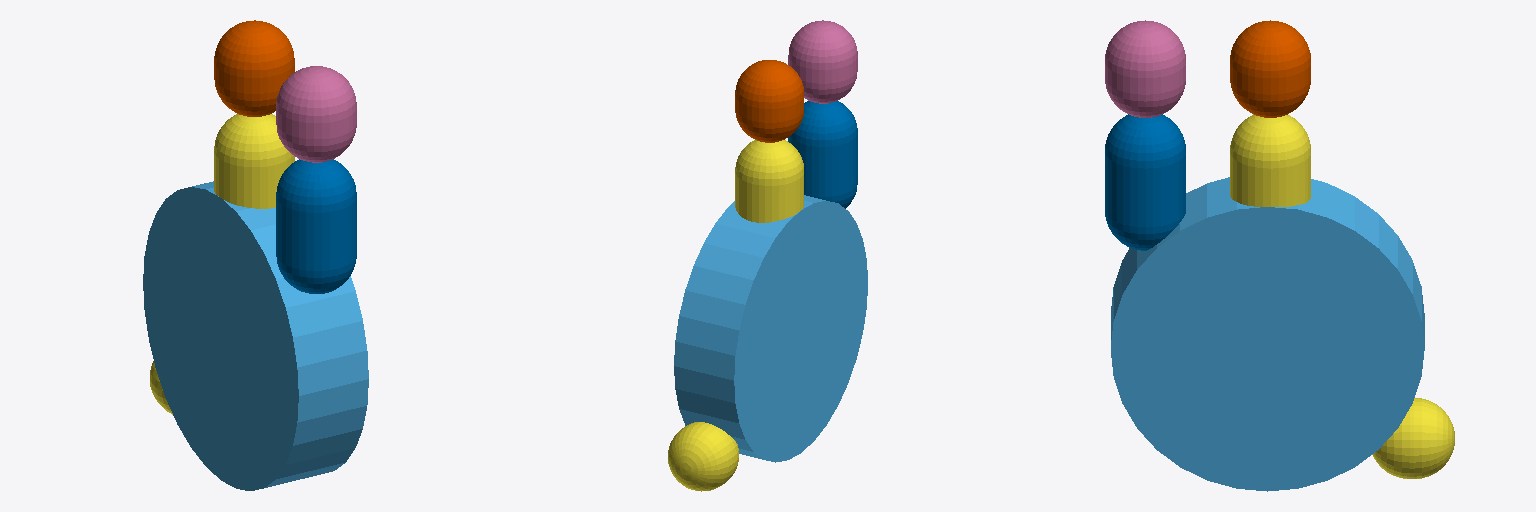
URDF robot description (DexterousHand):
<?xml version="1.0"?>
<robot name="DexterousHand">


    <link name="world"/>
    <joint name="world_to_palm" type="fixed">
        <parent link="world"/>
        <child link="palm"/>
        <origin xyz="0 0 0" rpy="0 0 0"/>
    </joint>
    <link name="palm">
        <inertial>
            <origin xyz="0 0 0.057" rpy="0 0 0"/>
            <mass value="0.30212892864"/>
            <inertia ixx="0.00049080844457568" ixy="0.0" ixz="0.0" iyy="0.00026746366246427523" iyz="0.0" izz="0.00026746366246427523"/>
        </inertial>
        <visual>
            <origin xyz="0 0 0.057" rpy="1.5708 0 1.5708"/>
            <geometry>
                <cylinder radius="0.057" length="0.0296"/>
            </geometry>
            <material name="default"/>
        </visual>
        <collision>
            <origin xyz="0 0 0.057" rpy="1.5708 0 1.5708"/>
            <geometry>
                <cylinder radius="0.057" length="0.0296"/>
            </geometry>
        </collision>
    </link>

    
    <joint name="thumb_joint1" type="revolute">
        <parent link="palm"/>
        <child link="thumb_base"/>
        <origin xyz="0.0029 0.0368 0.0157" rpy="-1.5708 -1.5708 0.0"/>
        <axis xyz="-1 0 0"/>
        <limit lower="-0.349" upper="2.094" effort="1.0" velocity="1.0"/>
    </joint>

    <link name="thumb_base"></link>

    <joint name="thumb_joint2" type="revolute">
        <parent link="thumb_base"/>
        <child link="thumb_proximal"/>
        <origin xyz="0.0 0.0 0.0" rpy="0.0 0.0 0.0"/>
        <axis xyz="0 0 1"/>
        <limit lower="-0.47" upper="2.443" effort="1.0" velocity="1.0"/>
    </joint>

    <link name="thumb_proximal">
        <inertial>
            <origin xyz="0 0 0.01565" rpy="0 0 0"/>
            <mass value="0.021538658803200002"/>
            <inertia ixx="2.9378910096388167e-06" ixy="0.0" ixz="0.0" 
            iyy="2.9378910096388167e-06" iyz="0.0" izz="2.358913912126464e-06"/>
        </inertial>
        <visual>
            <origin xyz="0 0 0.01565" rpy="0 0 0"/>
            <geometry>
                <cylinder radius="0.0148" length="0.0017000000000000001"/>
            </geometry>
            <material name="default"/>
        </visual>
        <visual>
            <origin xyz="0 0 0.0148" rpy="0 0 0"/>
            <geometry>
                <sphere radius="0.0148"/>
            </geometry>
            <material name="default"/>
        </visual>
        <visual>
            <origin xyz="0 0 0.0165" rpy="0 0 0"/>
            <geometry>
                <sphere radius="0.0148"/>
            </geometry>
            <material name="default"/>
        </visual>
        <collision>
            <origin xyz="0 0 0.01565" rpy="0 0 0"/>
            <geometry>
                <cylinder radius="0.0148" length="0.0017000000000000001"/>
            </geometry>
        </collision>
        <collision>
            <origin xyz="0 0 0.0148" rpy="0 0 0"/>
            <geometry>
                <sphere radius="0.0148"/>
            </geometry>
        </collision>
        <collision>
            <origin xyz="0 0 0.0165" rpy="0 0 0"/>
            <geometry>
                <sphere radius="0.0148"/>
            </geometry>
        </collision>
    </link>

    <joint name="thumb_joint3" type="revolute">
        <parent link="thumb_proximal"/>
        <child link="thumb_knuckle"/>
        <origin xyz="0.0 0.0 0.0" rpy="0.0 0.0 0.0"/>
        <axis xyz="1 0 0"/>
        <limit lower="0.0" upper="0.0" effort="1.0" velocity="1.0"/>
    </joint>

    <link name="thumb_knuckle"></link>

    <joint name="thumb_joint4" type="revolute">
        <parent link="thumb_knuckle"/>
        <child link="thumb_middle"/>
        <origin xyz="0 0 0" rpy="0 0 0"/> 
        <axis xyz="0 1 0"/>
        <limit lower="0.0" upper="0.0" effort="1.0" velocity="1.0"/>
    </joint>

    <link name="thumb_middle">
    </link>

    <joint name="thumb_joint5" type="revolute">
        <parent link="thumb_middle"/>
        <child link="thumb_distal"/>
        <origin xyz="0 0 0" rpy="0 0 0"/> 
        <axis xyz="0 1 0"/>
        <limit lower="0.0" upper="0.0" effort="1.0" velocity="1.0"/>
    </joint>

    <link name="thumb_distal">
    </link>

    
    <joint name="index_joint1" type="revolute">
        <parent link="palm"/>
        <child link="index_proximal"/>
        <origin xyz="0.0 0.0 0.0" rpy="0.0 0.0 0.0"/>
        <axis xyz="1 0 0"/>
        <limit lower="0.0" upper="0.0" effort="1.0" velocity="1.0"/>
    </joint>

    <link name="index_proximal">
    </link>

    <joint name="index_joint2" type="revolute">
        <parent link="index_proximal"/>
        <child link="index_dummy"/>
        <origin xyz="0.0 0.0 0.0" rpy="0.0 0.0 0.0"/>
        <axis xyz="0 1 0"/>
        <limit lower="0.0" upper="0.0" effort="1.0" velocity="1.0"/>
    </joint>

    <link name="index_dummy"></link>

    <joint name="index_joint3" type="revolute">
        <parent link="index_dummy"/>
        <child link="index_middle"/>
        <origin xyz="0 0 0" rpy="0 0 0"/>
        <axis xyz="0 1 0"/>
        <limit lower="0.0" upper="0.0" effort="1.0" velocity="1.0"/>
    </joint>

    <link name="index_middle">
    </link>

    <joint name="index_joint4" type="revolute">
        <parent link="index_middle"/>
        <child link="index_distal"/>
        <origin xyz="0 0 0" rpy="0 0 0"/> 
        <axis xyz="0 1 0"/>
        <limit lower="0.0" upper="0.0" effort="1.0" velocity="1.0"/>
    </joint>

    <link name="index_distal">
    </link>

    
    <joint name="middle_joint1" type="revolute">
        <parent link="palm"/>
        <child link="middle_proximal"/>
        <origin xyz="0.0 0.0011 0.091" rpy="0.0 0.0 0.0"/>
        <axis xyz="0 1 0"/>
        <limit lower="-0.314" upper="2.23" effort="1.0" velocity="1.0"/>
    </joint>

    <link name="middle_proximal">
        <inertial>
            <origin xyz="0 0 0.02655" rpy="0 0 0"/>
            <mass value="0.036540024998400006"/>
            <inertia ixx="1.058665009272394e-05" ixy="0.0" ixz="0.0" 
            iyy="1.058665009272394e-05" iyz="0.0" izz="4.001863537824769e-06"/>
        </inertial>
        <visual>
            <origin xyz="0 0 0.02655" rpy="0 0 0"/>
            <geometry>
                <cylinder radius="0.0148" length="0.0235"/>
            </geometry>
            <material name="default"/>
        </visual>
        <visual>
            <origin xyz="0 0 0.0148" rpy="0 0 0"/>
            <geometry>
                <sphere radius="0.0148"/>
            </geometry>
            <material name="default"/>
        </visual>
        <visual>
            <origin xyz="0 0 0.0383" rpy="0 0 0"/>
            <geometry>
                <sphere radius="0.0148"/>
            </geometry>
            <material name="default"/>
        </visual>
        <collision>
            <origin xyz="0 0 0.02655" rpy="0 0 0"/>
            <geometry>
                <cylinder radius="0.0148" length="0.0235"/>
            </geometry>
        </collision>
        <collision>
            <origin xyz="0 0 0.0148" rpy="0 0 0"/>
            <geometry>
                <sphere radius="0.0148"/>
            </geometry>
        </collision>
        <collision>
            <origin xyz="0 0 0.0383" rpy="0 0 0"/>
            <geometry>
                <sphere radius="0.0148"/>
            </geometry>
        </collision>
    </link>

    <joint name="middle_joint2" type="revolute">
        <parent link="middle_proximal"/>
        <child link="middle_dummy"/>
        <origin xyz="0.0 0.0 0.038" rpy="0.0 0.0 0.0"/>
        <axis xyz="1 0 0"/>
        <limit lower="-1.047" upper="1.047" effort="1.0" velocity="1.0"/>
    </joint>

    <link name="middle_dummy"></link>

    <joint name="middle_joint3" type="revolute">
        <parent link="middle_dummy"/>
        <child link="middle_middle"/>
        <origin xyz="0 0 0.015100000000000002" rpy="0 0 0"/>
        <axis xyz="0 1 0"/>
        <limit lower="-0.506" upper="1.885" effort="1.0" velocity="1.0"/>
    </joint>

    <link name="middle_middle">
        <inertial>
            <origin xyz="0 0 0.01805" rpy="0 0 0"/>
            <mass value="0.0248417119104"/>
            <inertia ixx="4.058162759109537e-06" ixy="0.0" ixz="0.0" 
            iyy="4.058162759109537e-06" iyz="0.0" izz="2.7206642884270085e-06"/>
        </inertial>
        <visual>
            <origin xyz="0 0 0.01805" rpy="0 0 0"/>
            <geometry>
                <cylinder radius="0.0148" length="0.006499999999999999"/>
            </geometry>
            <material name="default"/>
        </visual>
        <visual>
            <origin xyz="0 0 0.0148" rpy="0 0 0"/>
            <geometry>
                <sphere radius="0.0148"/>
            </geometry>
            <material name="default"/>
        </visual>
        <visual>
            <origin xyz="0 0 0.0213" rpy="0 0 0"/>
            <geometry>
                <sphere radius="0.0148"/>
            </geometry>
            <material name="default"/>
        </visual>
        <collision>
            <origin xyz="0 0 0.01805" rpy="0 0 0"/>
            <geometry>
                <cylinder radius="0.0148" length="0.006499999999999999"/>
            </geometry>
        </collision>
        <collision>
            <origin xyz="0 0 0.0148" rpy="0 0 0"/>
            <geometry>
                <sphere radius="0.0148"/>
            </geometry>
        </collision>
        <collision>
            <origin xyz="0 0 0.0213" rpy="0 0 0"/>
            <geometry>
                <sphere radius="0.0148"/>
            </geometry>
        </collision>
    </link>

    <joint name="middle_joint4" type="revolute">
        <parent link="middle_middle"/>
        <child link="middle_distal"/>
        <origin xyz="0 0 0.0361" rpy="0 0 0"/> 
        <axis xyz="0 1 0"/>
        <limit lower="0.0" upper="0.0" effort="1.0" velocity="1.0"/>
    </joint>

    <link name="middle_distal">
    </link>

    
    <joint name="ring_joint1" type="revolute">
        <parent link="palm"/>
        <child link="ring_proximal"/>
        <origin xyz="0.0 0.0 0.0" rpy="0.0 0.0 0.0"/>
        <axis xyz="1 0 0"/>
        <limit lower="0.0" upper="0.0" effort="1.0" velocity="1.0"/>
    </joint>

    <link name="ring_proximal">
    </link>

    <joint name="ring_joint2" type="revolute">
        <parent link="ring_proximal"/>
        <child link="ring_dummy"/>
        <origin xyz="0.0 0.0 0.0" rpy="0.0 0.0 0.0"/>
        <axis xyz="0 1 0"/>
        <limit lower="0.0" upper="0.0" effort="1.0" velocity="1.0"/>
    </joint>

    <link name="ring_dummy"></link>

    <joint name="ring_joint3" type="revolute">
        <parent link="ring_dummy"/>
        <child link="ring_middle"/>
        <origin xyz="0 0 0" rpy="0 0 0"/>
        <axis xyz="0 1 0"/>
        <limit lower="0.0" upper="0.0" effort="1.0" velocity="1.0"/>
    </joint>

    <link name="ring_middle">
    </link>

    <joint name="ring_joint4" type="revolute">
        <parent link="ring_middle"/>
        <child link="ring_distal"/>
        <origin xyz="0 0 0" rpy="0 0 0"/> 
        <axis xyz="0 1 0"/>
        <limit lower="0.0" upper="0.0" effort="1.0" velocity="1.0"/>
    </joint>

    <link name="ring_distal">
    </link>

    
    <joint name="little_joint0" type="revolute">
        <parent link="palm"/>
        <child link="little_base"/>
        <origin xyz="0.0 0.0 0.0" rpy="0.0 0.0 0.0"/>
        <axis xyz="0 1 0"/>
        <limit lower="0.0" upper="0.0" effort="1.0" velocity="1.0"/>
    </joint>

    <link name="little_base"></link>

    <joint name="little_joint1" type="revolute">
        <parent link="little_base"/>
        <child link="little_proximal"/>
        <origin xyz="0.0 -0.0443 0.091" rpy="-0.0 -0.0 -0.0"/>
        <axis xyz="0 1 0"/>
        <limit lower="-0.314" upper="2.23" effort="1.0" velocity="1.0"/>
    </joint>

    <link name="little_proximal">
        <inertial>
            <origin xyz="0 0 0.02655" rpy="0 0 0"/>
            <mass value="0.036540024998400006"/>
            <inertia ixx="1.058665009272394e-05" ixy="0.0" ixz="0.0" 
            iyy="1.058665009272394e-05" iyz="0.0" izz="4.001863537824769e-06"/>
        </inertial>
        <visual>
            <origin xyz="0 0 0.02655" rpy="0 0 0"/>
            <geometry>
                <cylinder radius="0.0148" length="0.0235"/>
            </geometry>
            <material name="default"/>
        </visual>
        <visual>
            <origin xyz="0 0 0.0148" rpy="0 0 0"/>
            <geometry>
                <sphere radius="0.0148"/>
            </geometry>
            <material name="default"/>
        </visual>
        <visual>
            <origin xyz="0 0 0.0383" rpy="0 0 0"/>
            <geometry>
                <sphere radius="0.0148"/>
            </geometry>
            <material name="default"/>
        </visual>
        <collision>
            <origin xyz="0 0 0.02655" rpy="0 0 0"/>
            <geometry>
                <cylinder radius="0.0148" length="0.0235"/>
            </geometry>
        </collision>
        <collision>
            <origin xyz="0 0 0.0148" rpy="0 0 0"/>
            <geometry>
                <sphere radius="0.0148"/>
            </geometry>
        </collision>
        <collision>
            <origin xyz="0 0 0.0383" rpy="0 0 0"/>
            <geometry>
                <sphere radius="0.0148"/>
            </geometry>
        </collision>
    </link>

    <joint name="little_joint2" type="revolute">
        <parent link="little_proximal"/>
        <child link="little_dummy"/>
        <origin xyz="0.0 0.0 0.038" rpy="0.0 0.0 0.0"/>
        <axis xyz="1 0 0"/>
        <limit lower="-1.047" upper="1.047" effort="1.0" velocity="1.0"/>
    </joint>

    <link name="little_dummy"></link>

    <joint name="little_joint3" type="revolute">
        <parent link="little_dummy"/>
        <child link="little_middle"/>
        <origin xyz="0 0 0.015100000000000002" rpy="0 0 0"/>
        <axis xyz="0 1 0"/>
        <limit lower="-0.506" upper="1.885" effort="1.0" velocity="1.0"/>
    </joint>

    <link name="little_middle">
        <inertial>
            <origin xyz="0 0 0.01805" rpy="0 0 0"/>
            <mass value="0.0248417119104"/>
            <inertia ixx="4.058162759109537e-06" ixy="0.0" ixz="0.0" 
            iyy="4.058162759109537e-06" iyz="0.0" izz="2.7206642884270085e-06"/>
        </inertial>
        <visual>
            <origin xyz="0 0 0.01805" rpy="0 0 0"/>
            <geometry>
                <cylinder radius="0.0148" length="0.006499999999999999"/>
            </geometry>
            <material name="default"/>
        </visual>
        <visual>
            <origin xyz="0 0 0.0148" rpy="0 0 0"/>
            <geometry>
                <sphere radius="0.0148"/>
            </geometry>
            <material name="default"/>
        </visual>
        <visual>
            <origin xyz="0 0 0.0213" rpy="0 0 0"/>
            <geometry>
                <sphere radius="0.0148"/>
            </geometry>
            <material name="default"/>
        </visual>
        <collision>
            <origin xyz="0 0 0.01805" rpy="0 0 0"/>
            <geometry>
                <cylinder radius="0.0148" length="0.006499999999999999"/>
            </geometry>
        </collision>
        <collision>
            <origin xyz="0 0 0.0148" rpy="0 0 0"/>
            <geometry>
                <sphere radius="0.0148"/>
            </geometry>
        </collision>
        <collision>
            <origin xyz="0 0 0.0213" rpy="0 0 0"/>
            <geometry>
                <sphere radius="0.0148"/>
            </geometry>
        </collision>
    </link>

    <joint name="little_joint4" type="revolute">
        <parent link="little_middle"/>
        <child link="little_distal"/>
        <origin xyz="0 0 0.0361" rpy="0 0 0"/>
        <axis xyz="0 1 0"/>
        <limit lower="0.0" upper="0.0" effort="1.0" velocity="1.0"/>
    </joint>

    <link name="little_distal">
    </link>

</robot>

--- Facts derived from the render (not from the file) ---
Views: 3 orthographic renders of the robot side by side, from view 1: azimuth 30°, elevation 25°; view 2: azimuth 150°, elevation 25°; view 3: azimuth 270°, elevation 25°.
Robot: DexterousHand — 24 links, 23 joints (22 revolute, 1 fixed); root link world; default pose: all joints at 0.
Visible links, largest first — view 1: palm, little_proximal, little_middle, middle_middle, middle_proximal; view 2: palm, little_proximal, middle_proximal, middle_middle, little_middle, thumb_proximal; view 3: palm, little_proximal, middle_proximal, little_middle, middle_middle, thumb_proximal.
Link boxes in pixels (x1,y1,x2,y2): palm: (143, 181, 368, 490); little_proximal: (276, 159, 356, 293); little_middle: (276, 66, 356, 162); middle_middle: (214, 20, 294, 116); middle_proximal: (214, 114, 294, 208); palm: (674, 195, 867, 462); little_proximal: (788, 101, 857, 208); middle_proximal: (735, 140, 803, 222); middle_middle: (735, 60, 803, 142); little_middle: (788, 20, 857, 103); thumb_proximal: (668, 422, 738, 491); palm: (1111, 177, 1424, 491); little_proximal: (1105, 114, 1185, 250); middle_proximal: (1230, 114, 1310, 206); little_middle: (1105, 20, 1185, 117); middle_middle: (1230, 20, 1310, 117); thumb_proximal: (1372, 398, 1454, 478).
Bounding box of the posed robot: 0.0325 × 0.1272 × 0.1802 m (x, y, z).
Geometry: primitives only (box / cylinder / sphere), no mesh files.
